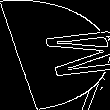M_W: (7, 27, 103, 83)
